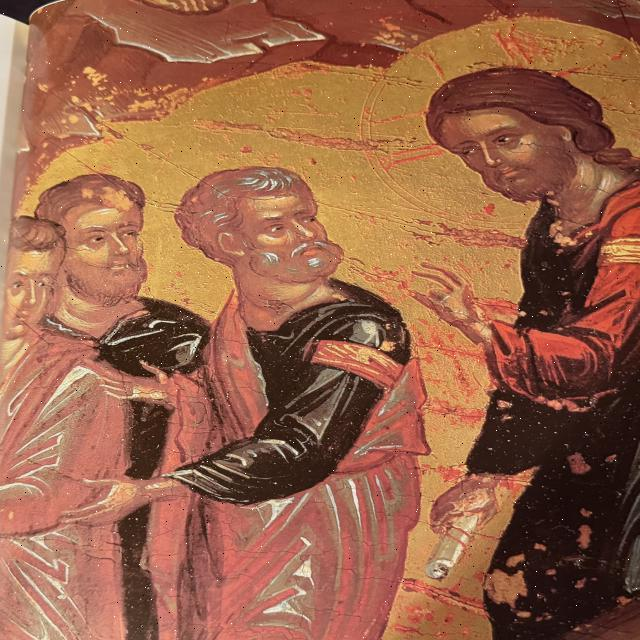aura: (359, 24, 640, 236)
christ_hand: (394, 256, 565, 392)
scroll: (400, 457, 522, 587)
